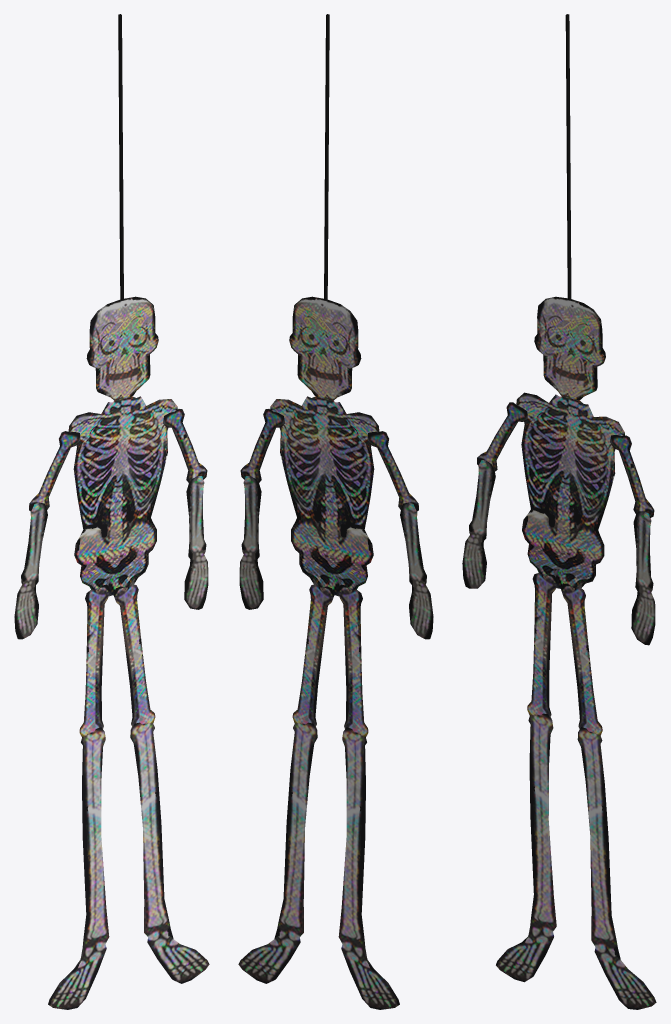
File: HW_PaperSkeleton.fbx
3 views of the same model, side by side, from view 1: azimuth 30°, elevation 25°; view 2: azimuth 150°, elevation 25°; view 3: azimuth 330°, elevation 25° (orthographic).
Visible parts, largest first — view 1: HW_PaperSkeleton; view 2: HW_PaperSkeleton; view 3: HW_PaperSkeleton.
Part boxes in pixels (x1,y1,x2,y2): HW_PaperSkeleton: (14,14,209,1009); HW_PaperSkeleton: (238,14,433,1009); HW_PaperSkeleton: (462,14,656,1009).
Bounding box in the file's own units: 0.7113 × 3.44 × 0.00872.
1 material, 1 textured.
